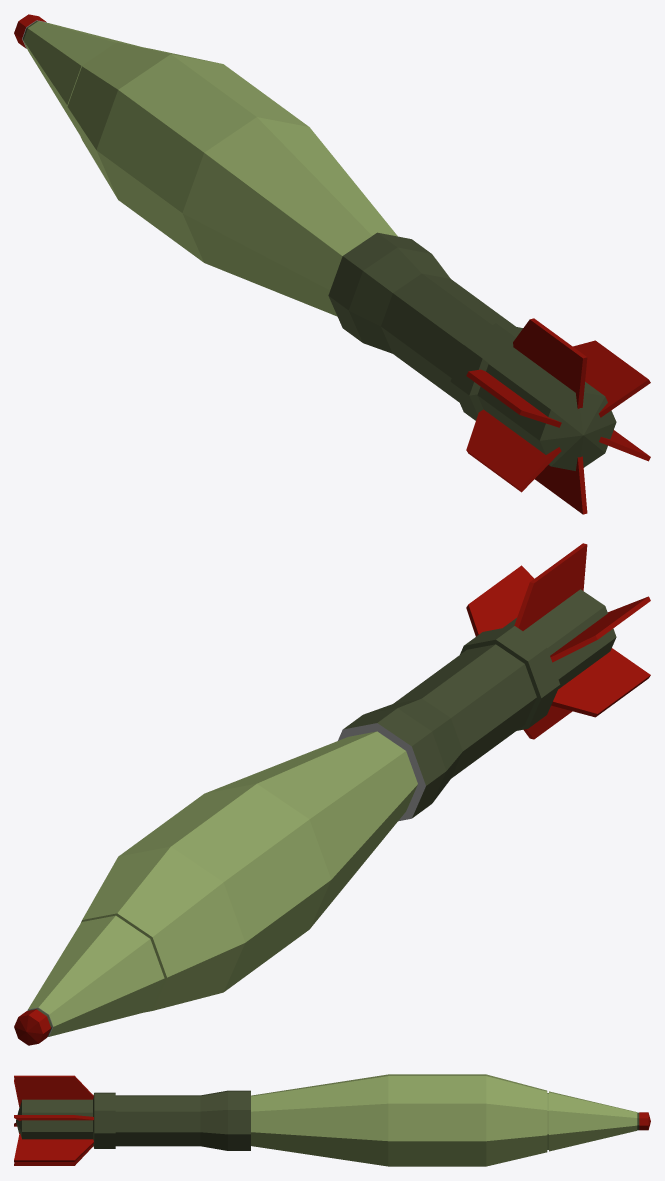
Rendered from Shell Coloured.fbx.
3 renders of one model, top to bottom at view 1: azimuth 30°, elevation 25°; view 2: azimuth 150°, elevation 25°; view 3: azimuth 270°, elevation 25°, orthographic. The views are drawn at different scales.
Visible parts, largest first — view 1: Mortar_ammo:pCylinder1, Mortar_ammo:pCylinder2, Mortar_ammo:pCylinder3, Mortar_ammo:pCube3, Mortar_ammo:pCube1, Mortar_ammo:pCube6, Mortar_ammo:pCube4, Mortar_ammo:pCube2; view 2: Mortar_ammo:pCylinder1, Mortar_ammo:pCylinder2, Mortar_ammo:pCylinder3, Mortar_ammo:pCube3, Mortar_ammo:pCube1, Mortar_ammo:pCube6, Mortar_ammo:pCube2; view 3: Mortar_ammo:pCylinder1, Mortar_ammo:pCylinder2, Mortar_ammo:pCylinder3, Mortar_ammo:pCube1, Mortar_ammo:pCube5, Mortar_ammo:pCube6, Mortar_ammo:pCube4.
Boxes of the visible parts, x1,y1,x2,y2 form: Mortar_ammo:pCylinder1: (14, 14, 397, 316); Mortar_ammo:pCylinder2: (328, 232, 522, 420); Mortar_ammo:pCylinder3: (477, 347, 616, 470); Mortar_ammo:pCube3: (466, 409, 561, 492); Mortar_ammo:pCube1: (513, 318, 587, 408); Mortar_ammo:pCube6: (573, 340, 650, 417); Mortar_ammo:pCube4: (535, 456, 587, 514); Mortar_ammo:pCube2: (466, 369, 561, 427); Mortar_ammo:pCylinder1: (14, 731, 417, 1045); Mortar_ammo:pCylinder2: (338, 626, 560, 821); Mortar_ammo:pCylinder3: (503, 589, 616, 688); Mortar_ammo:pCube3: (551, 648, 650, 717); Mortar_ammo:pCube1: (514, 543, 587, 630); Mortar_ammo:pCube6: (466, 565, 534, 636); Mortar_ammo:pCube2: (550, 596, 650, 662); Mortar_ammo:pCylinder1: (251, 1074, 650, 1166); Mortar_ammo:pCylinder2: (93, 1090, 250, 1150); Mortar_ammo:pCylinder3: (16, 1099, 93, 1144); Mortar_ammo:pCube1: (14, 1075, 93, 1107); Mortar_ammo:pCube5: (14, 1132, 93, 1161); Mortar_ammo:pCube6: (14, 1115, 93, 1120); Mortar_ammo:pCube4: (14, 1145, 93, 1165).
Bounding box in the file's own units: 3.88 × 3.9 × 25.19.
